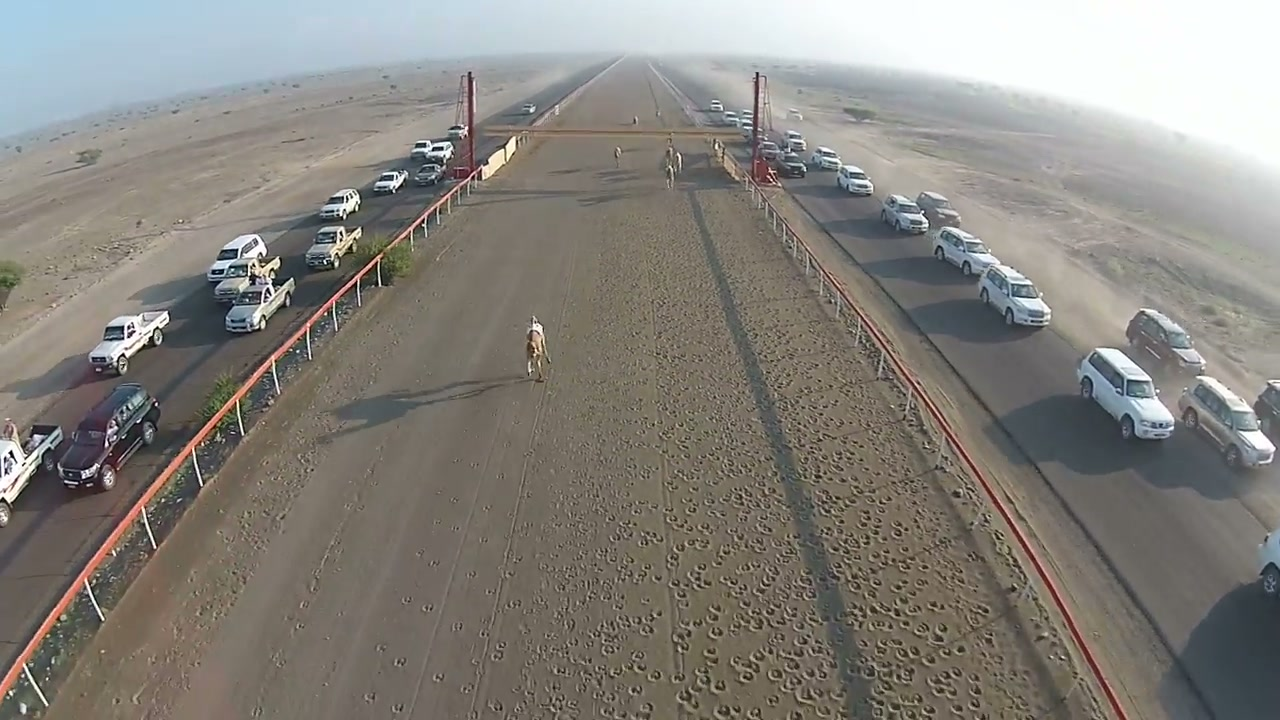animal_foot_print: (495, 268, 970, 719)
